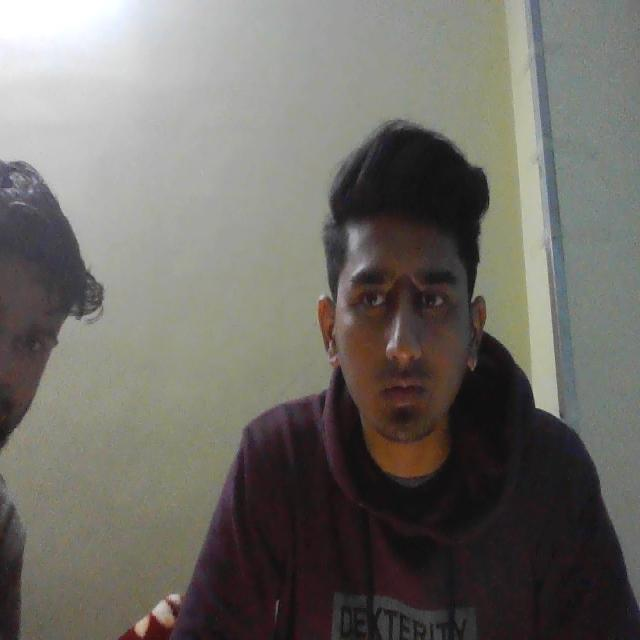real: (321, 141, 493, 467)
